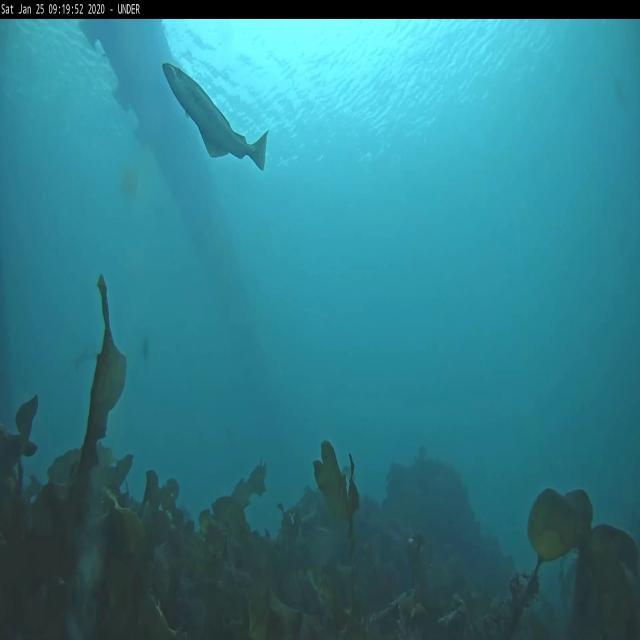fish: (160, 58, 268, 172), (77, 338, 99, 368), (140, 334, 152, 362)
